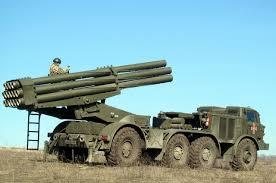MIL_SAM_TEL: (4, 56, 268, 172)
